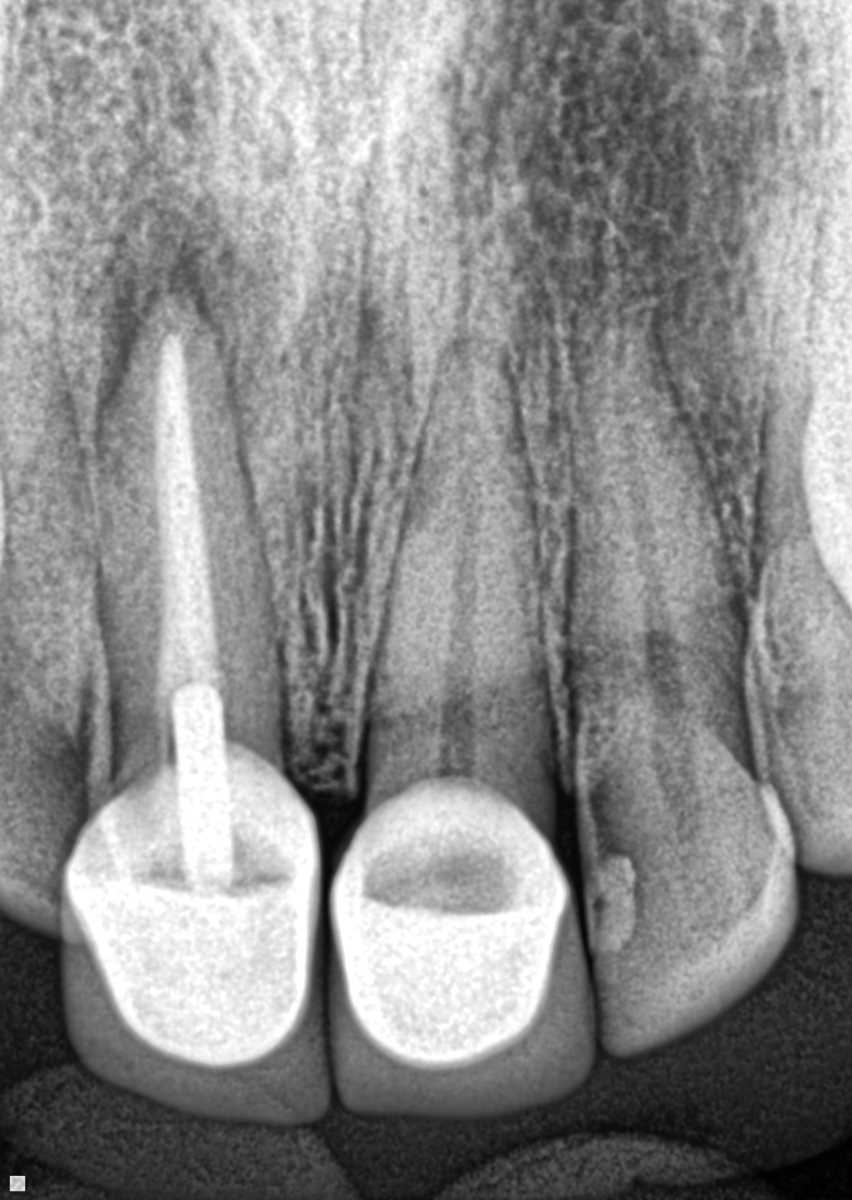Apical Lesion: (92, 174, 300, 418)
Main Canal: (610, 310, 683, 755), (440, 358, 483, 766)
Main Root: (356, 333, 558, 826), (98, 296, 287, 811), (560, 288, 757, 775), (0, 168, 96, 692), (749, 138, 852, 586)
decay: (583, 784, 651, 901)
